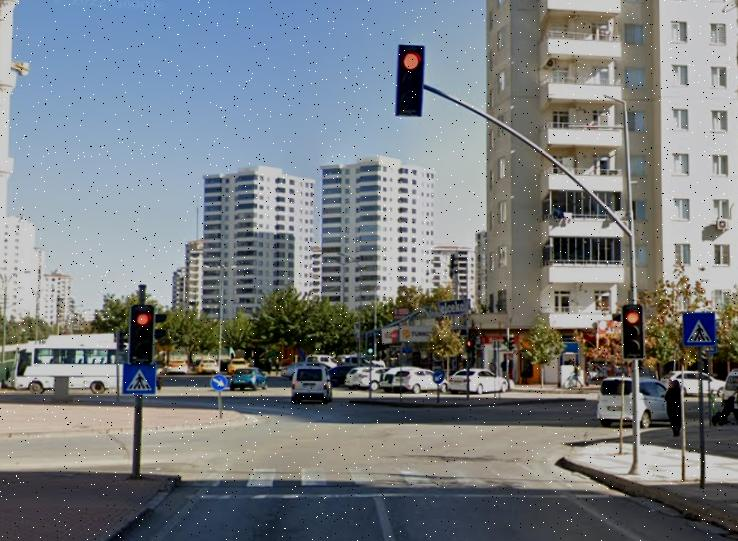redlight: (398, 45, 422, 113), (624, 304, 643, 356), (133, 306, 151, 358)
